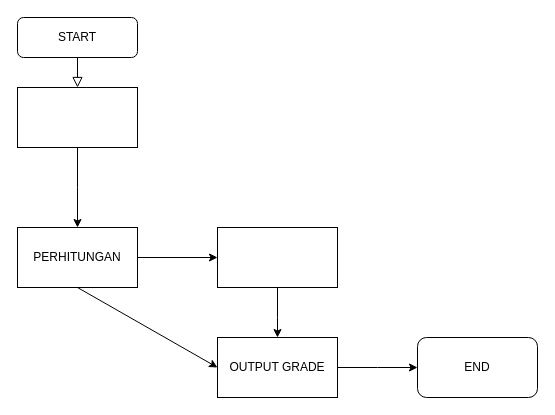
Image size: 555x415. Some labels were removed from this diagram. The shapes that lost their labels are listed below. From the top down, each one's centre as x and y in pixels, then its label:
At point 77,117: "INPUT NAMA DAN NILAI".
At point 277,257: "OUTPUT NILAI AKHIR".
